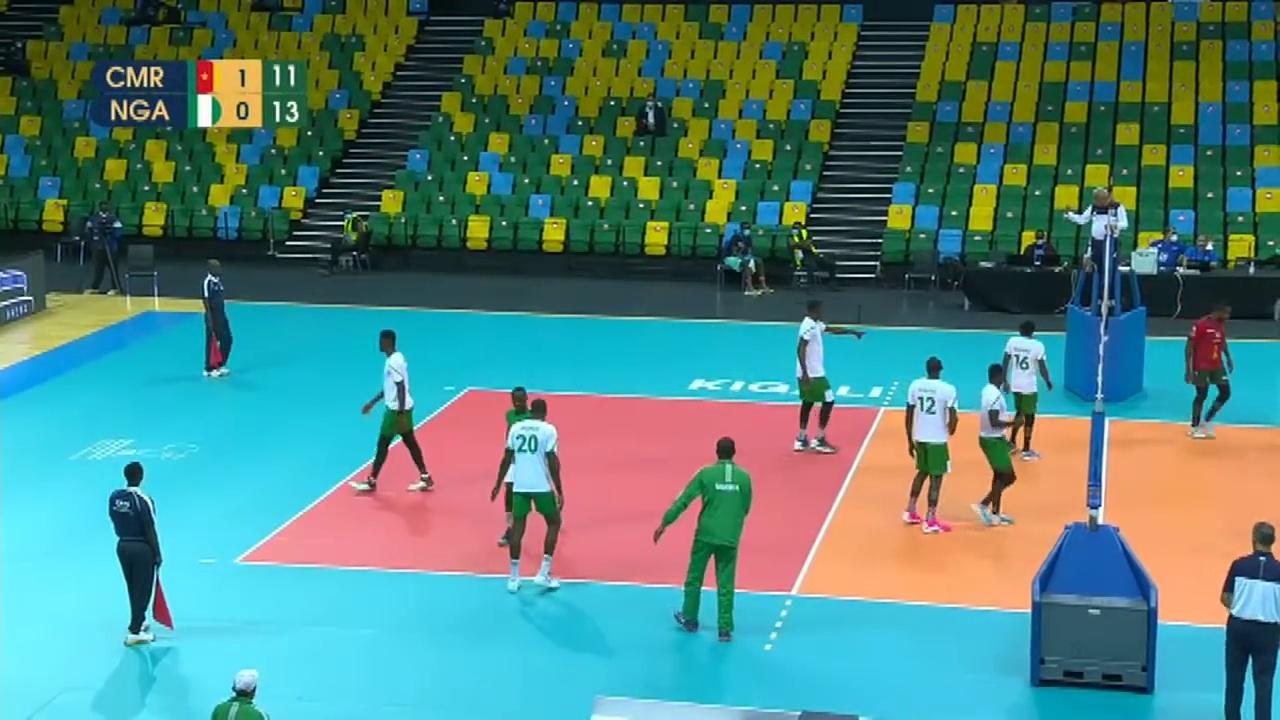player: (655, 434, 759, 641), (347, 331, 435, 494), (503, 399, 561, 589), (901, 356, 960, 530), (792, 303, 862, 448), (971, 356, 1027, 534), (495, 388, 553, 548), (999, 322, 1055, 455), (1186, 304, 1238, 435)
refree: (1216, 523, 1279, 720), (106, 465, 170, 639), (1070, 185, 1129, 303), (199, 261, 232, 377)
